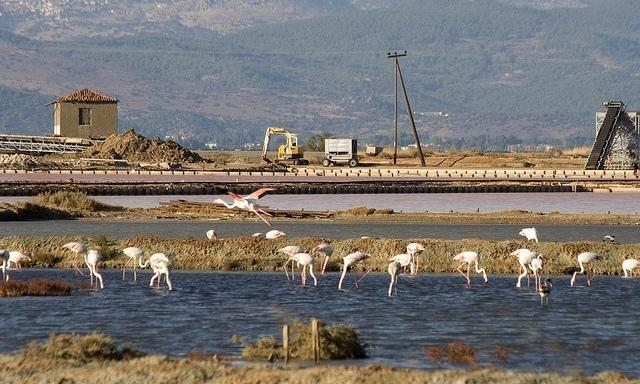truck: (320, 138, 360, 168)
